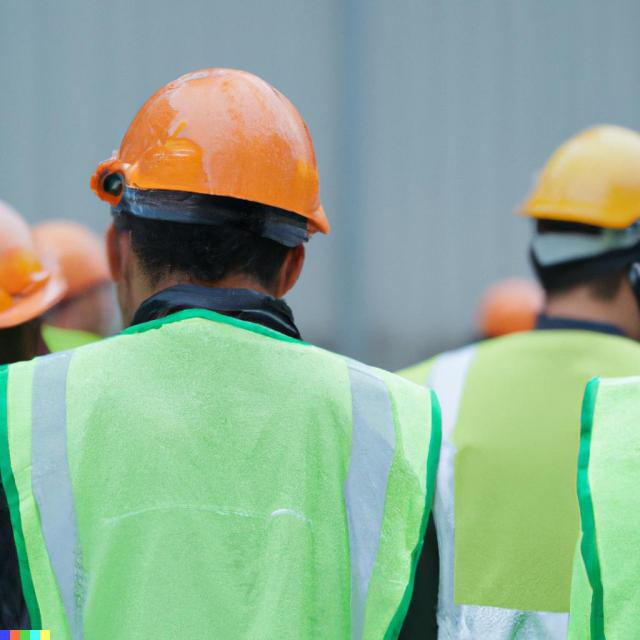Reflective-Jacket: (0, 309, 454, 639), (407, 324, 640, 640)
Safety-Helmet: (93, 64, 333, 228), (518, 120, 638, 239), (0, 186, 49, 333)
